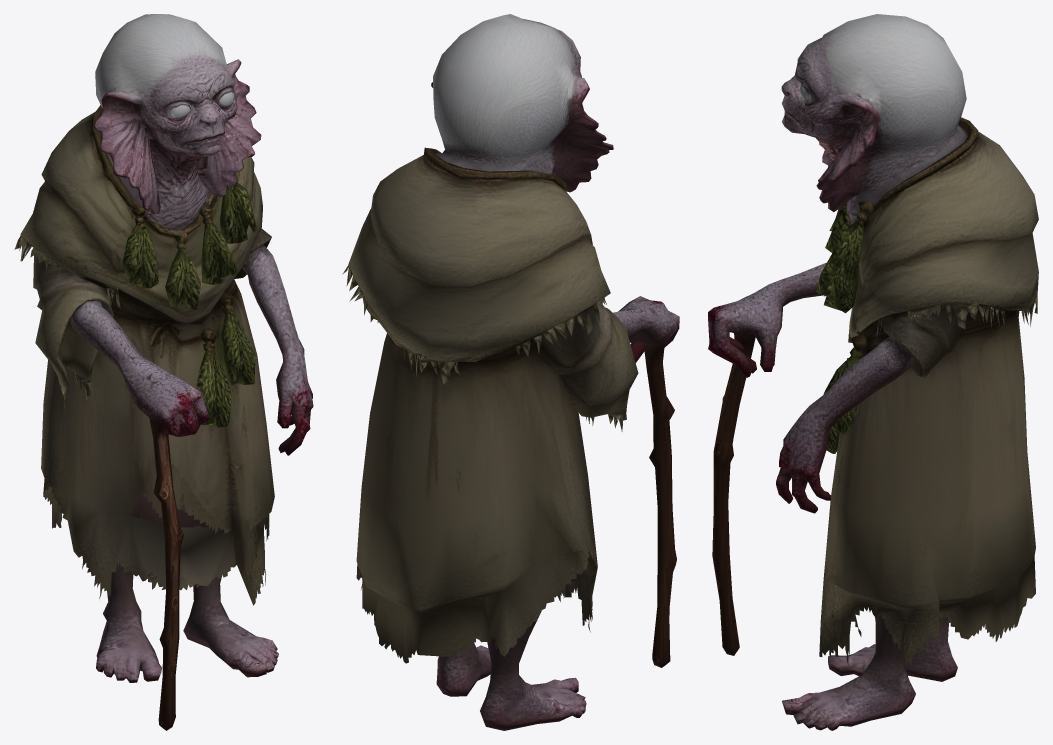
File: selected.glb
3 views of the same model, side by side, from view 1: azimuth 30°, elevation 25°; view 2: azimuth 150°, elevation 25°; view 3: azimuth 270°, elevation 25° (orthographic). The views are drawn at different scales.
Visible parts, largest first — view 1: tripo_node_b37dca70-b91a-4792-90eb-9353e386a9cd; view 2: tripo_node_b37dca70-b91a-4792-90eb-9353e386a9cd; view 3: tripo_node_b37dca70-b91a-4792-90eb-9353e386a9cd.
Boxes of the visible parts, left/top/right/bottom form: tripo_node_b37dca70-b91a-4792-90eb-9353e386a9cd: left=14, top=14, right=313, bottom=730; tripo_node_b37dca70-b91a-4792-90eb-9353e386a9cd: left=342, top=14, right=679, bottom=730; tripo_node_b37dca70-b91a-4792-90eb-9353e386a9cd: left=708, top=14, right=1038, bottom=730.
Bounding box in the file's own units: 0.3887 × 0.998 × 0.4473.
1 material, 1 textured.
